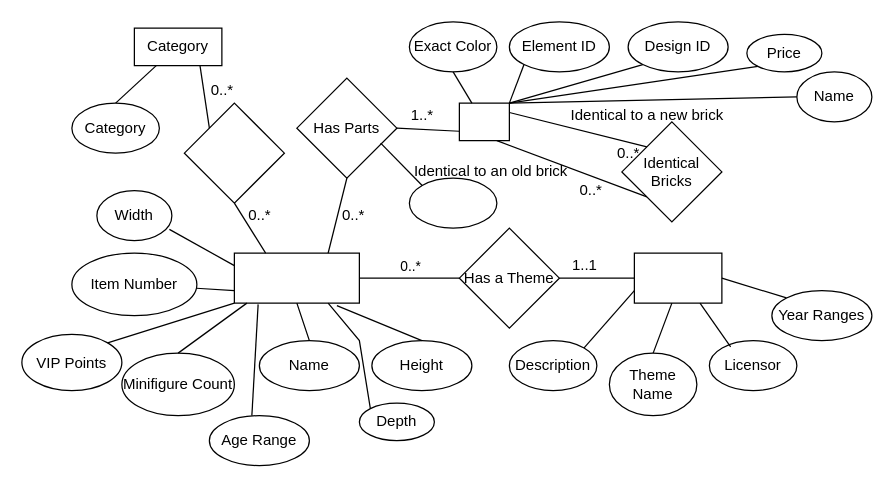
Image size: 894x488. Some labels were removed from this diagram. Each missing label, with the centre of its shape:
Brick: (x=483, y=121)
Count: (x=452, y=202)
Has CategorySet: (x=233, y=152)
Set: (x=296, y=277)
Theme: (x=677, y=277)
